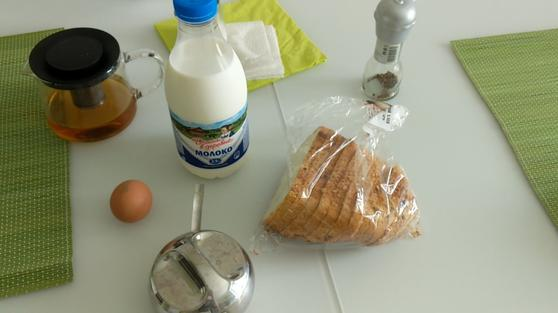egg: (108, 177, 151, 226)
milk: (156, 1, 254, 180)
white_bread: (265, 120, 430, 243)
